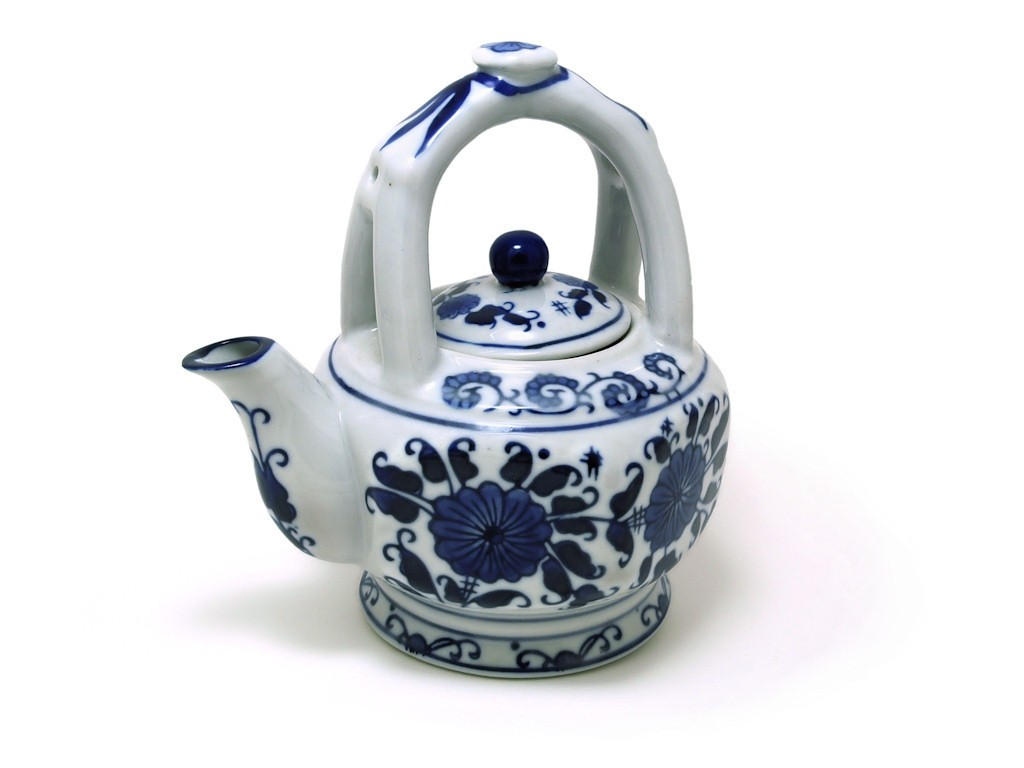teapot: (181, 40, 731, 680)
